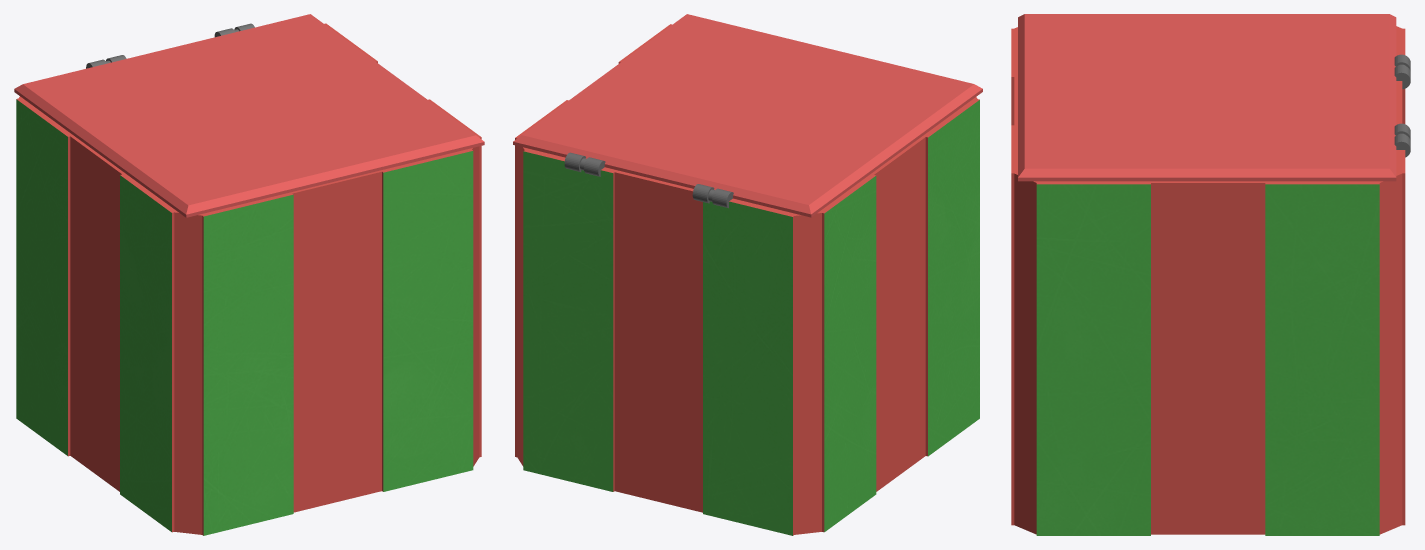
File: Jack O Box Base Mesh.fbx
3 renders of one model, left to right at view 1: azimuth 30°, elevation 25°; view 2: azimuth 150°, elevation 25°; view 3: azimuth 270°, elevation 25°, orthographic. The views are drawn at different scales.
Parts seen in each view (by area): view 1: Cube, Cube.002; view 2: Cube, Cube.002, Cube.001; view 3: Cube, Cube.002, Cube.001.
Part boxes in pixels (x1,y1,x2,y2): Cube: (16,23,481,535); Cube.002: (14,14,484,217); Cube: (515,24,979,535); Cube.002: (513,14,982,217); Cube.001: (564,152,733,208); Cube: (1011,26,1405,535); Cube.002: (1018,14,1396,181); Cube.001: (1394,54,1410,157).
Bounding box in the file's own units: 250 × 253 × 253.
7 materials, 1 textured.
